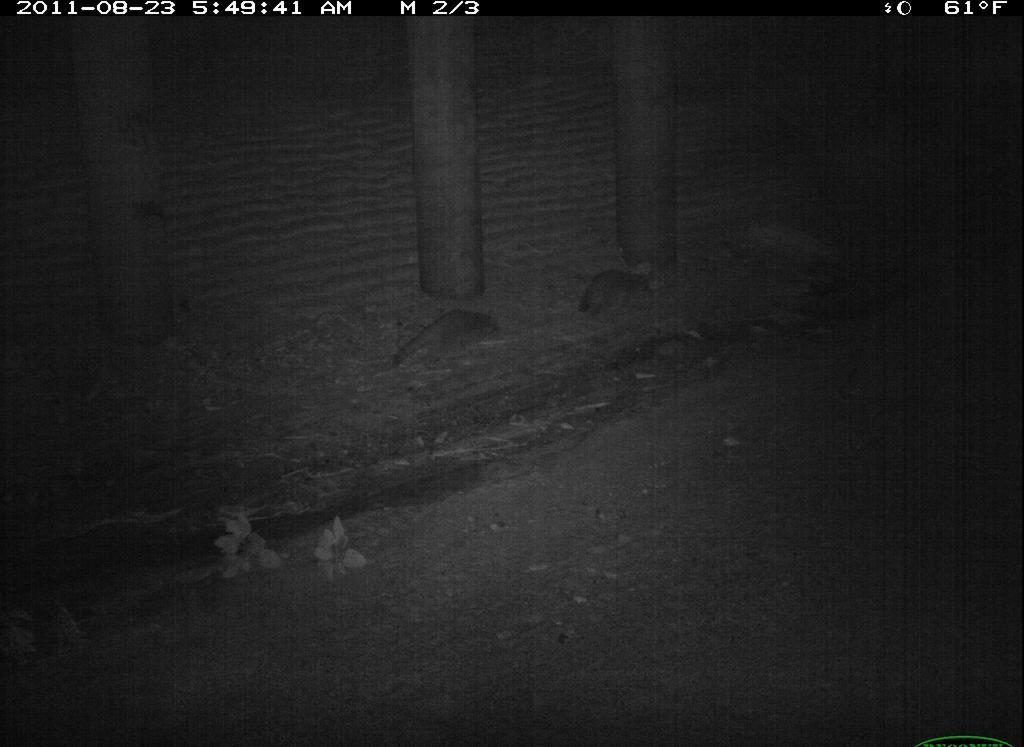raccoon: (769, 604, 1013, 747)
